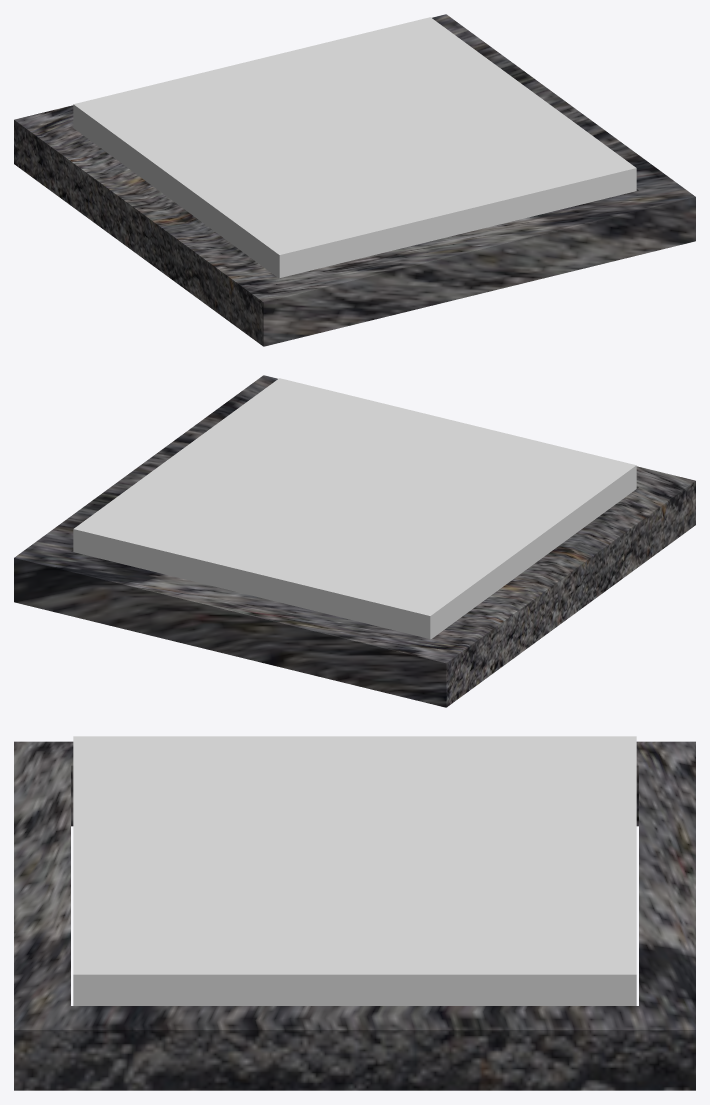
Rendered from pressurePlate.fbx.
3 views of the same model, one above another, from view 1: azimuth 30°, elevation 25°; view 2: azimuth 150°, elevation 25°; view 3: azimuth 270°, elevation 25° (orthographic). The views are drawn at different scales.
Parts seen in each view (by area): view 1: Plate, Base Plate; view 2: Plate, Base Plate; view 3: Plate, Base Plate.
Boxes of the visible parts, x1=… form: Plate: x1=73, y1=17, x2=636, y2=278; Base Plate: x1=14, y1=14, x2=695, y2=346; Plate: x1=73, y1=378, x2=636, y2=639; Base Plate: x1=14, y1=375, x2=695, y2=707; Plate: x1=73, y1=736, x2=636, y2=1005; Base Plate: x1=14, y1=741, x2=695, y2=1090.
Bounding box in the file's own units: 408 × 60 × 408.
2 materials, 1 textured.
